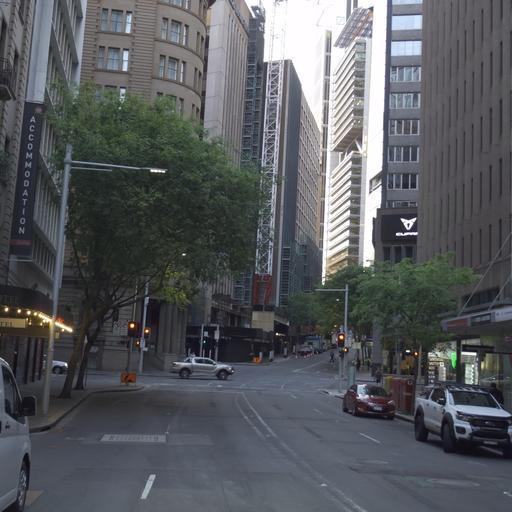Street light: (38, 143, 167, 416), (136, 251, 186, 373), (314, 284, 348, 390)
